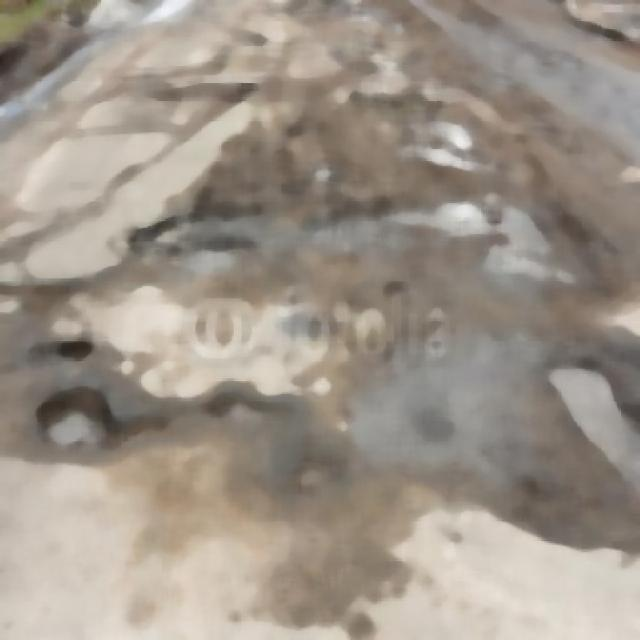Pothole: (408, 110, 492, 181), (154, 229, 252, 286), (46, 390, 108, 464)
